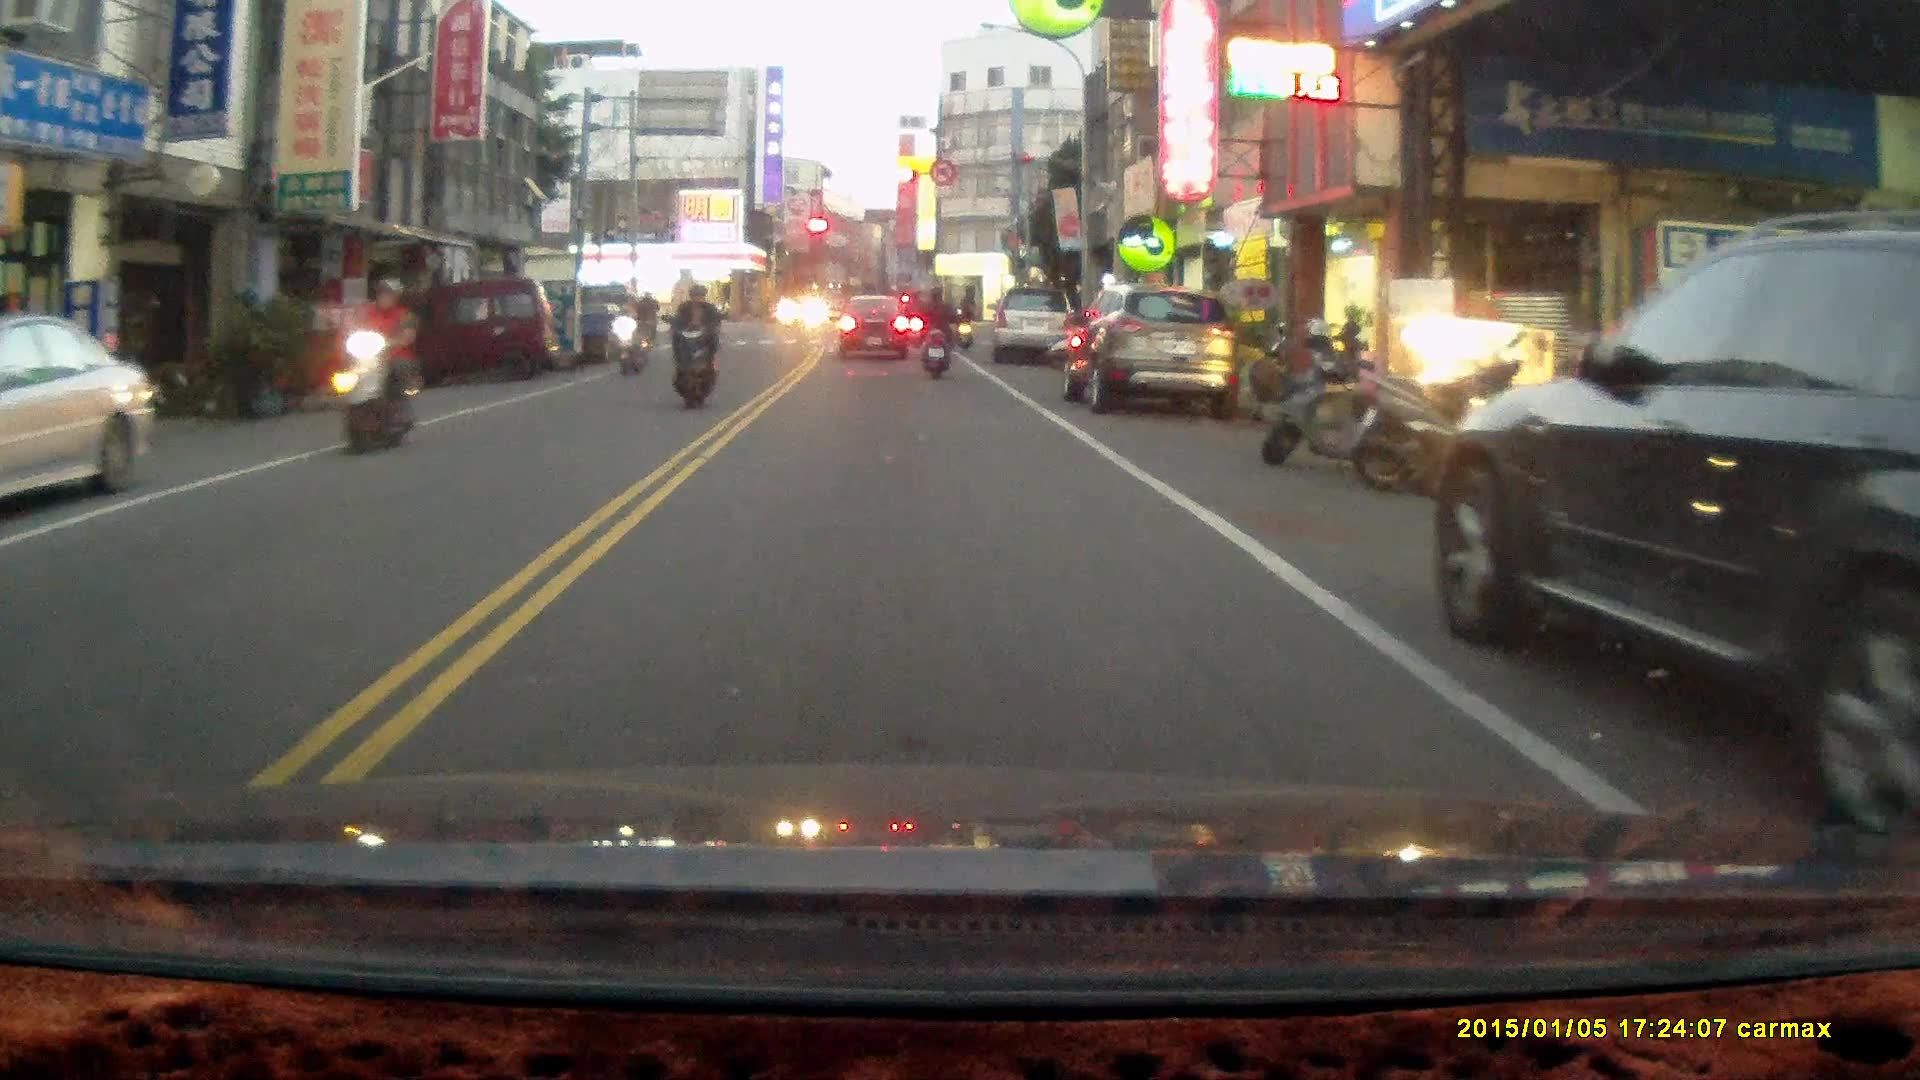rider: (333, 274, 422, 455), (667, 279, 717, 410), (914, 282, 955, 379), (610, 286, 650, 376), (630, 278, 661, 357), (954, 293, 977, 354)
vehicle: (1426, 211, 1920, 806), (1, 315, 152, 519), (1062, 285, 1239, 412), (393, 275, 563, 383), (997, 281, 1077, 362)
